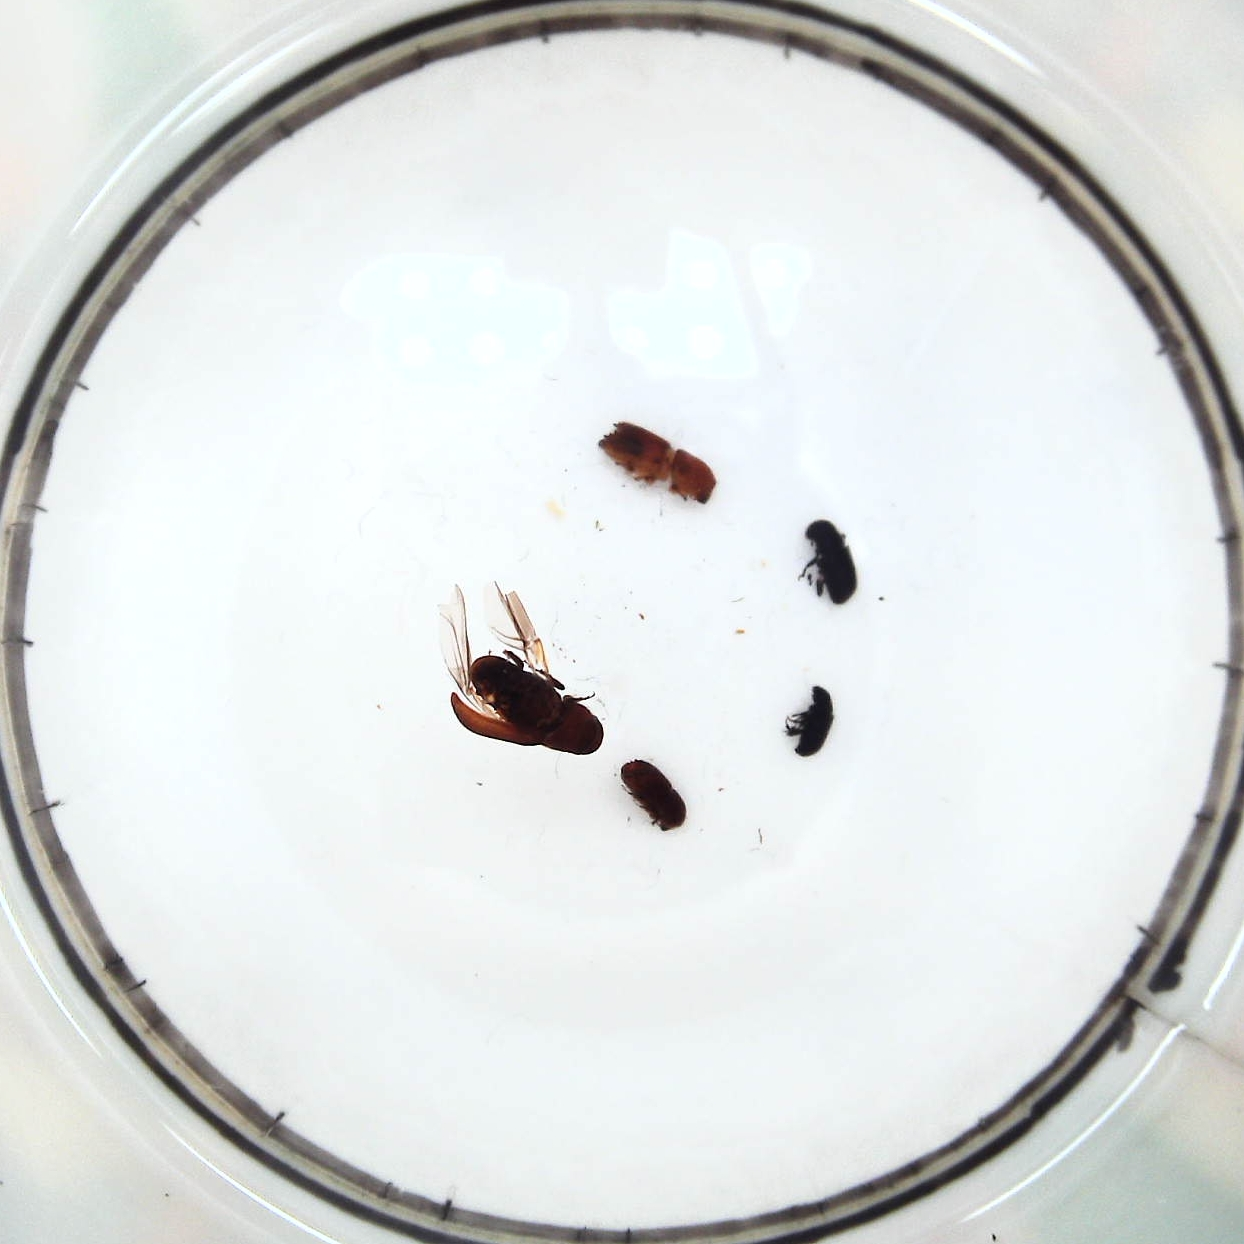Boerner: (596, 418, 723, 509)
Leconte: (432, 582, 609, 758)
Linnaeus: (620, 755, 687, 830)
armandi: (791, 518, 859, 604)
coleoptera: (788, 688, 832, 761)
